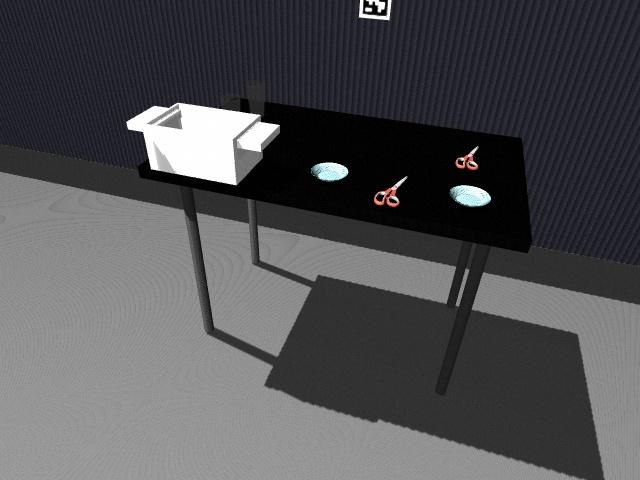cup: (246, 81, 266, 117), (220, 96, 244, 115)
plate: (448, 183, 493, 208), (310, 161, 351, 182)
scissors: (373, 175, 407, 207), (456, 145, 479, 170)
